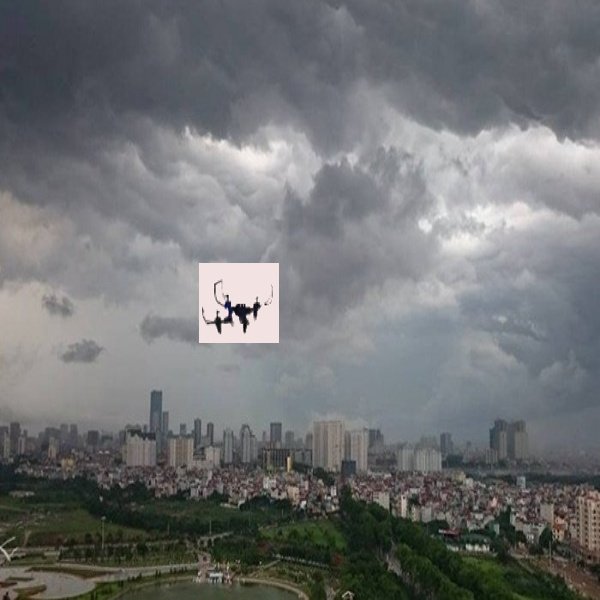drone: (201, 270, 281, 341)
